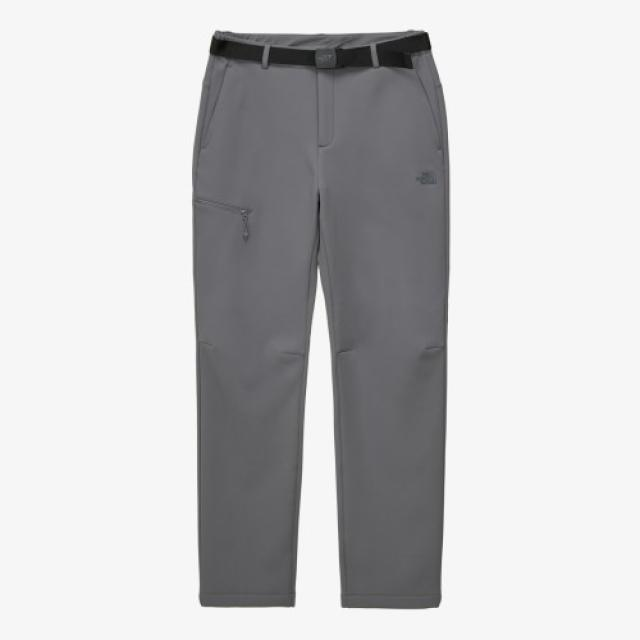pants: (188, 25, 450, 608)
